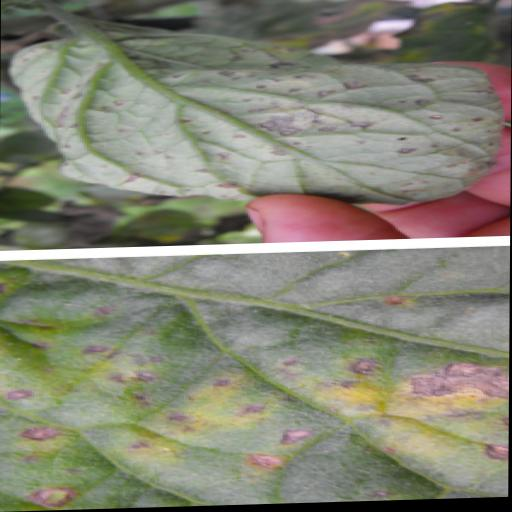Septoria: (0, 251, 510, 512), (16, 16, 500, 228)
